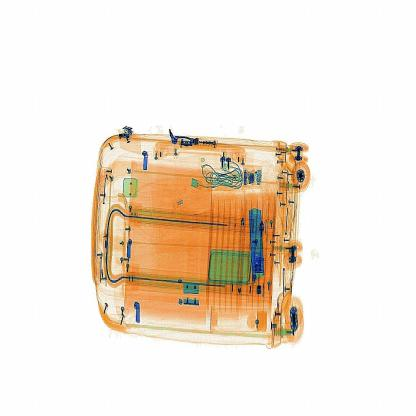pliers: (241, 196, 271, 288)
